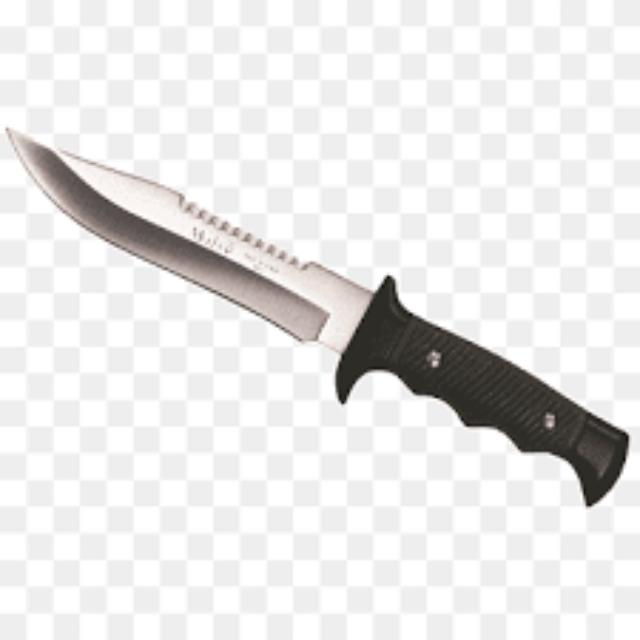knife: (4, 122, 628, 506)
